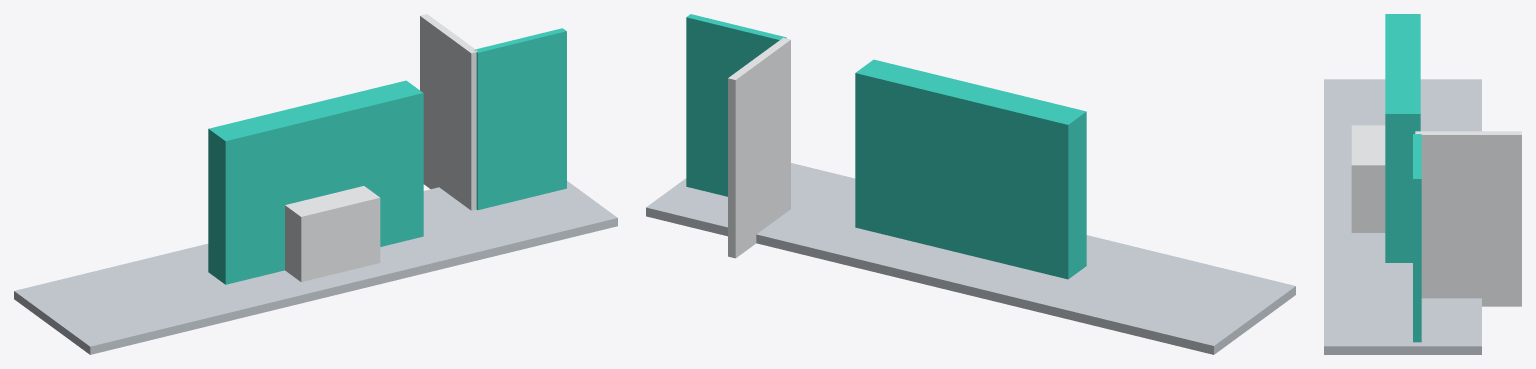
3 views of the same model, side by side, from view 1: azimuth 30°, elevation 25°; view 2: azimuth 150°, elevation 25°; view 3: azimuth 270°, elevation 25° (orthographic). The views are drawn at different scales.
Visible parts, largest first — view 1: Exhibition Booth Concept; view 2: Exhibition Booth Concept; view 3: Exhibition Booth Concept.
Boxes of the visible parts, bbox=[...] form: Exhibition Booth Concept: bbox=[14, 14, 617, 354]; Exhibition Booth Concept: bbox=[646, 14, 1295, 354]; Exhibition Booth Concept: bbox=[1324, 14, 1521, 354].
Size of the model in its own units: 8 by 2.4 by 2.5.
